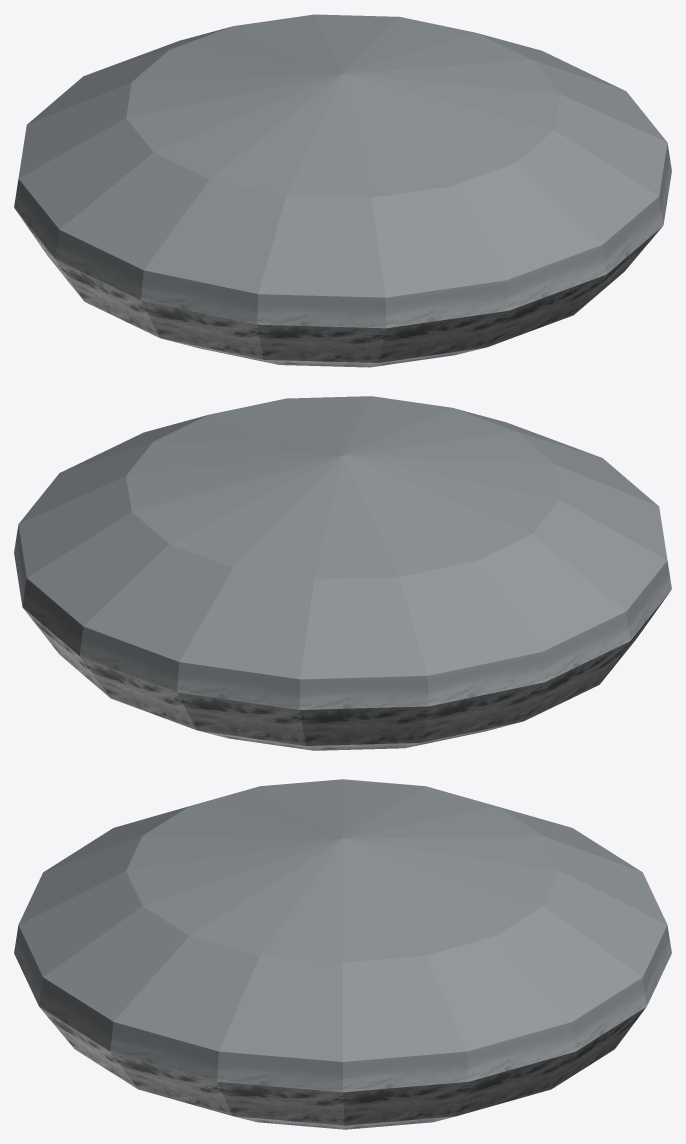
The picture shows the model from 3 angles, top to bottom: view 1: azimuth 30°, elevation 25°; view 2: azimuth 150°, elevation 25°; view 3: azimuth 270°, elevation 25°; orthographic projection.
Parts seen in each view (by area): view 1: mesh00; view 2: mesh00; view 3: mesh00.
Boxes of the visible parts, x1,y1,x2,y2 form: mesh00: [14, 14, 671, 367]; mesh00: [14, 396, 671, 750]; mesh00: [14, 779, 671, 1129].
Bounding box in the file's own units: 102020 × 33393 × 102020.
